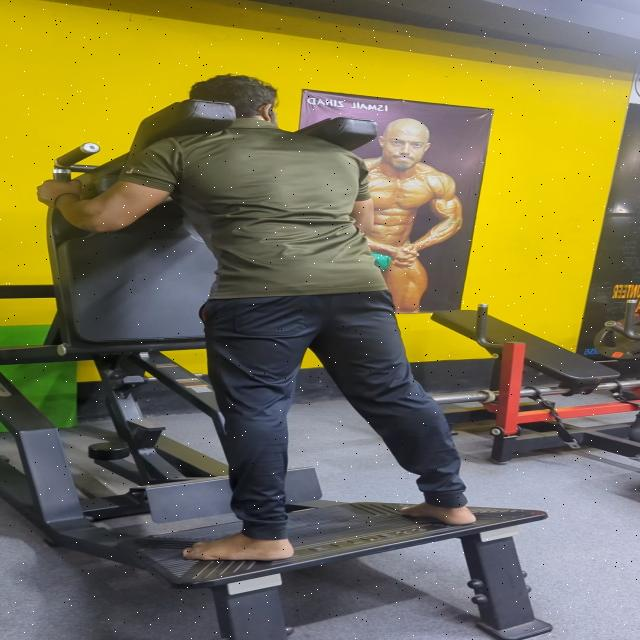Normal_SquatsWithBarbell: (0, 70, 538, 591)
